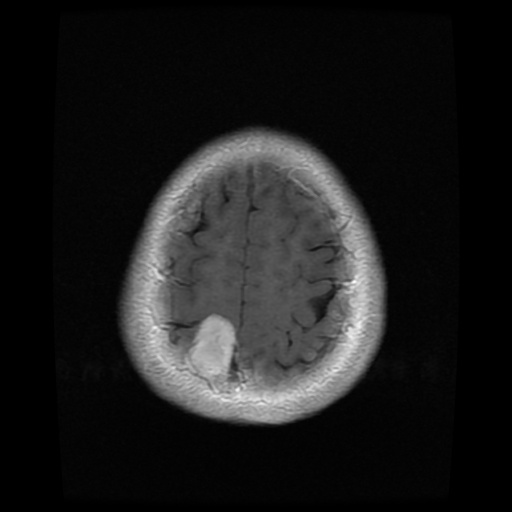meningioma: (188, 313, 237, 378)
